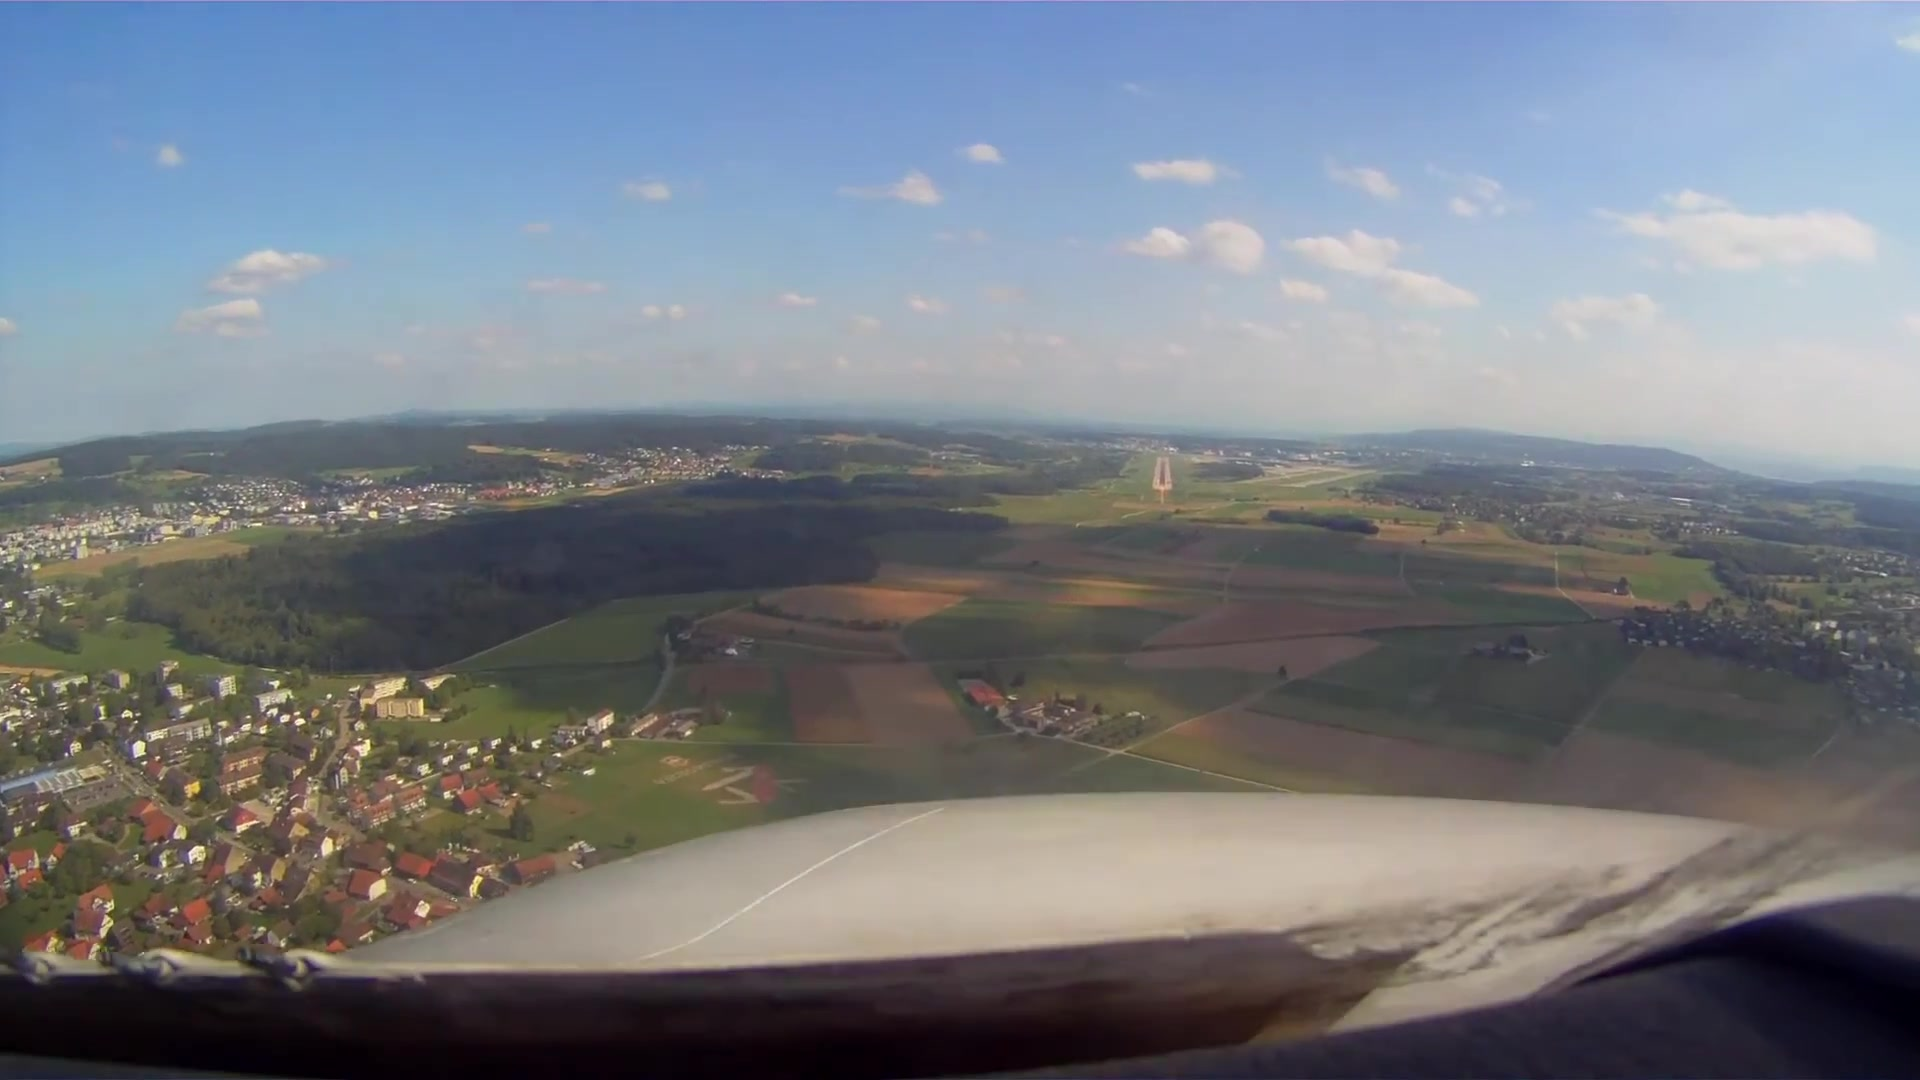runway: (1151, 459, 1174, 493)
